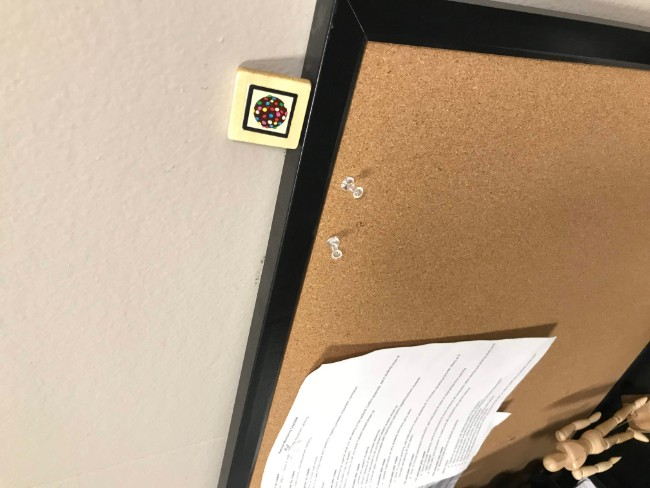cookie: (237, 81, 301, 144)
